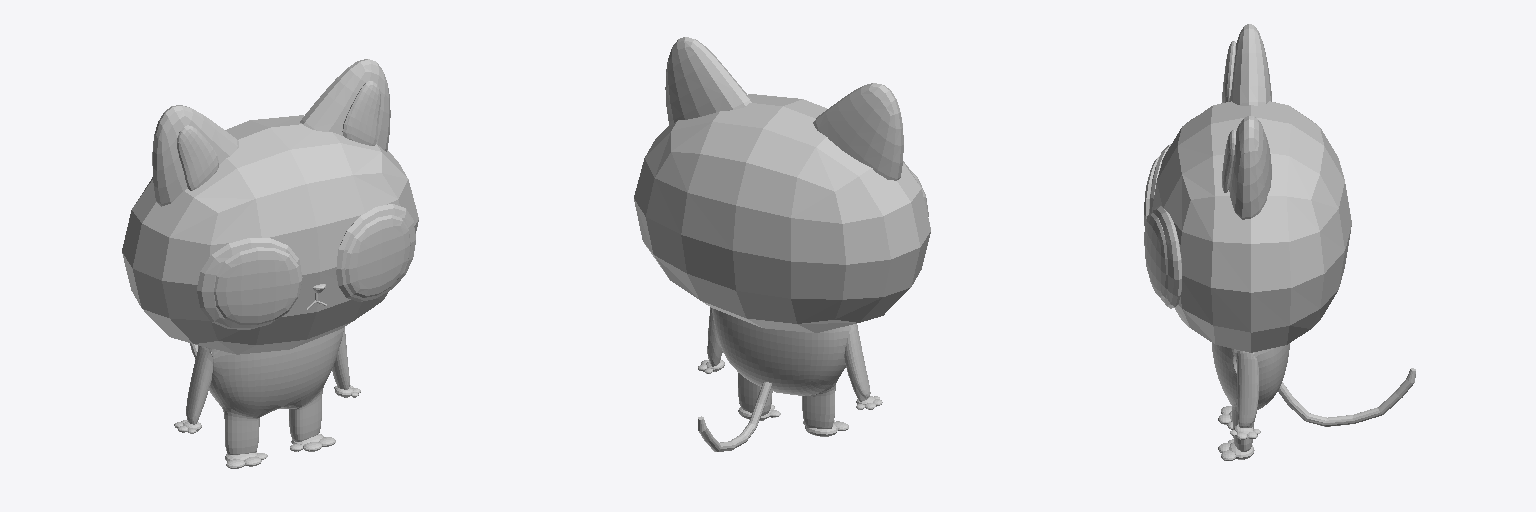
File: cat66 khong xuong.obj
The picture shows the model from 3 angles: view 1: azimuth 30°, elevation 25°; view 2: azimuth 150°, elevation 25°; view 3: azimuth 270°, elevation 25°; orthographic projection.
Parts seen in each view (by area): view 1: Head, Body, Eye2, Ear1, Eye1, Ear2, Cube.019; view 2: Head, Body, Ear1, BezierCurve.001, Cube.019; view 3: Head, Ear1, Body, Eye2, Eye1, BezierCurve.001, Ear2, Cube.019.
Boxes of the visible parts, x1,y1,x2,y2 form: Head: [122, 115, 418, 354]; Body: [186, 327, 349, 454]; Eye2: [214, 215, 410, 324]; Ear1: [152, 59, 390, 206]; Eye1: [197, 204, 415, 329]; Ear2: [177, 81, 380, 190]; Cube.019: [225, 434, 335, 468]; Head: [634, 94, 930, 332]; Body: [707, 307, 870, 428]; Ear1: [665, 37, 903, 180]; BezierCurve.001: [698, 382, 771, 451]; Cube.019: [738, 403, 848, 436]; Head: [1152, 101, 1351, 352]; Ear1: [1229, 24, 1271, 219]; Body: [1212, 343, 1289, 451]; Eye2: [1144, 156, 1167, 298]; Eye1: [1149, 144, 1181, 308]; BezierCurve.001: [1278, 368, 1415, 426]; Ear2: [1222, 41, 1235, 192]; Cube.019: [1218, 406, 1254, 460].
Bounding box in the file's own units: 5.94 × 7.57 × 5.07.